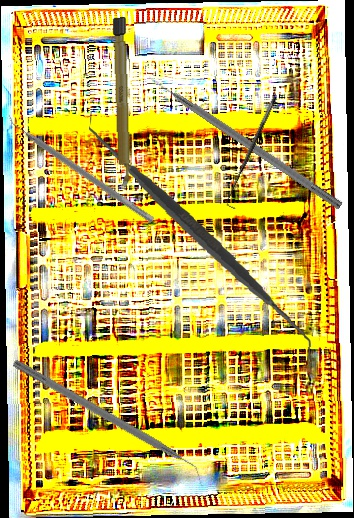Chopper: (4, 357, 213, 490)
Hook Surgical: (146, 71, 345, 210), (221, 95, 286, 210)
Scalpel Handle: (111, 16, 132, 190)
Spatula Surgical: (74, 111, 327, 361), (3, 111, 159, 224)
